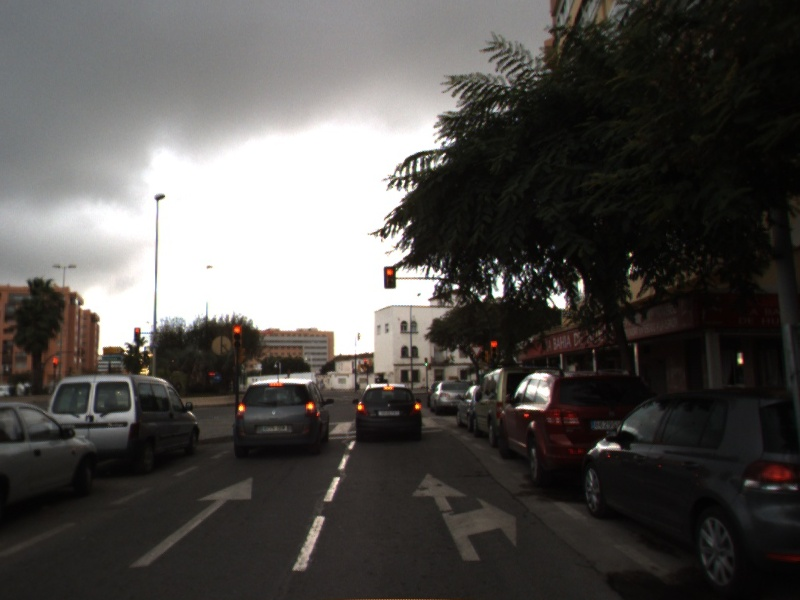STRAIGHT: (127, 475, 254, 569)
STRAIGHT_RIGHT: (410, 471, 518, 562)
